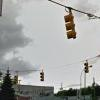Traffic light: (58, 7, 78, 46)
